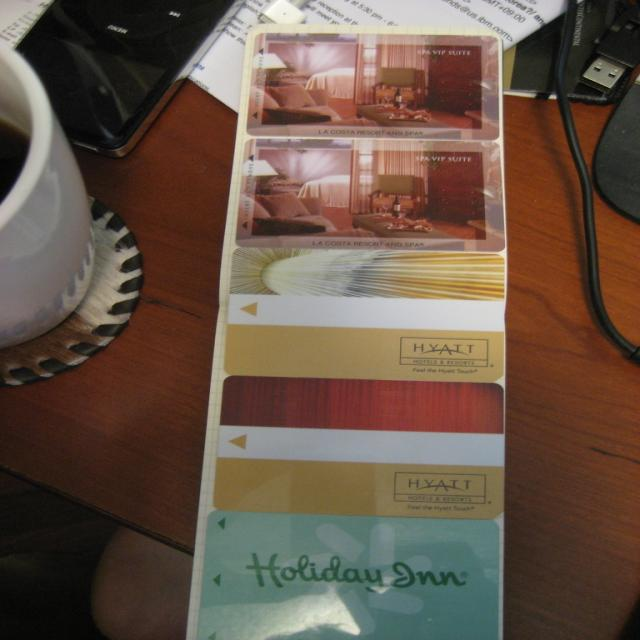Coffee: (1, 118, 42, 206)
